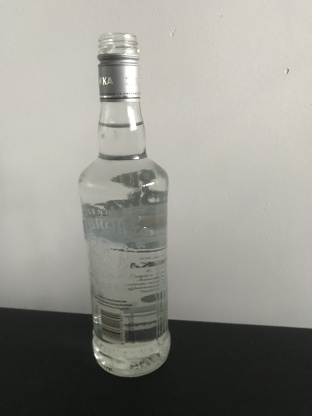nakretka: (95, 30, 142, 102)
